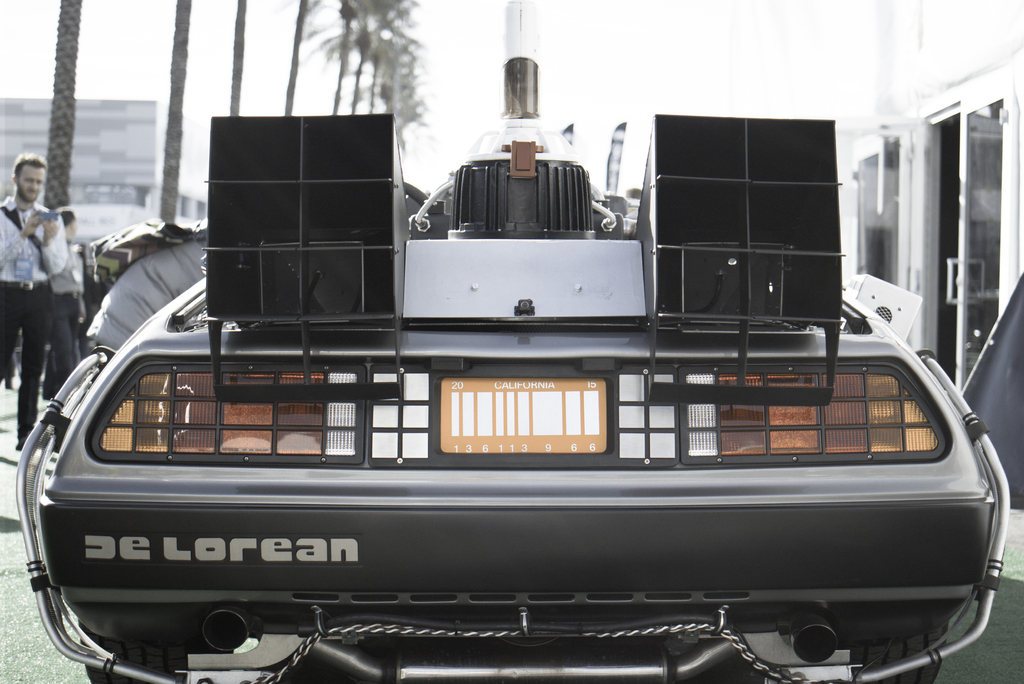Person: (0, 152, 67, 450)
